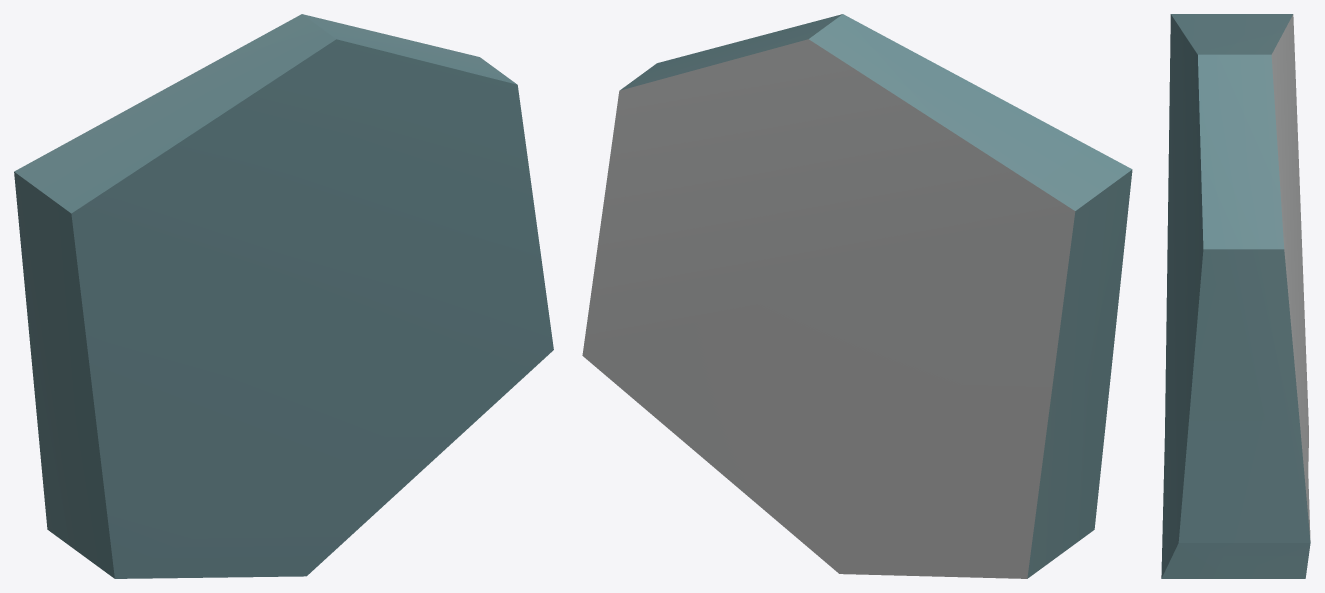
The model's file is IceDrift.005.glb.
The picture shows the model from 3 angles, left to right: view 1: azimuth 30°, elevation 25°; view 2: azimuth 150°, elevation 25°; view 3: azimuth 270°, elevation 25°; orthographic projection. The views are drawn at different scales.
Parts seen in each view (by area): view 1: IceDrift.005; view 2: IceDrift.005; view 3: IceDrift.005.
Part boxes in pixels (x1,y1,x2,y2): IceDrift.005: (14, 14, 553, 578); IceDrift.005: (582, 14, 1132, 578); IceDrift.005: (1161, 14, 1310, 578).
Bounding box in the file's own units: 190 × 192 × 47.29.
